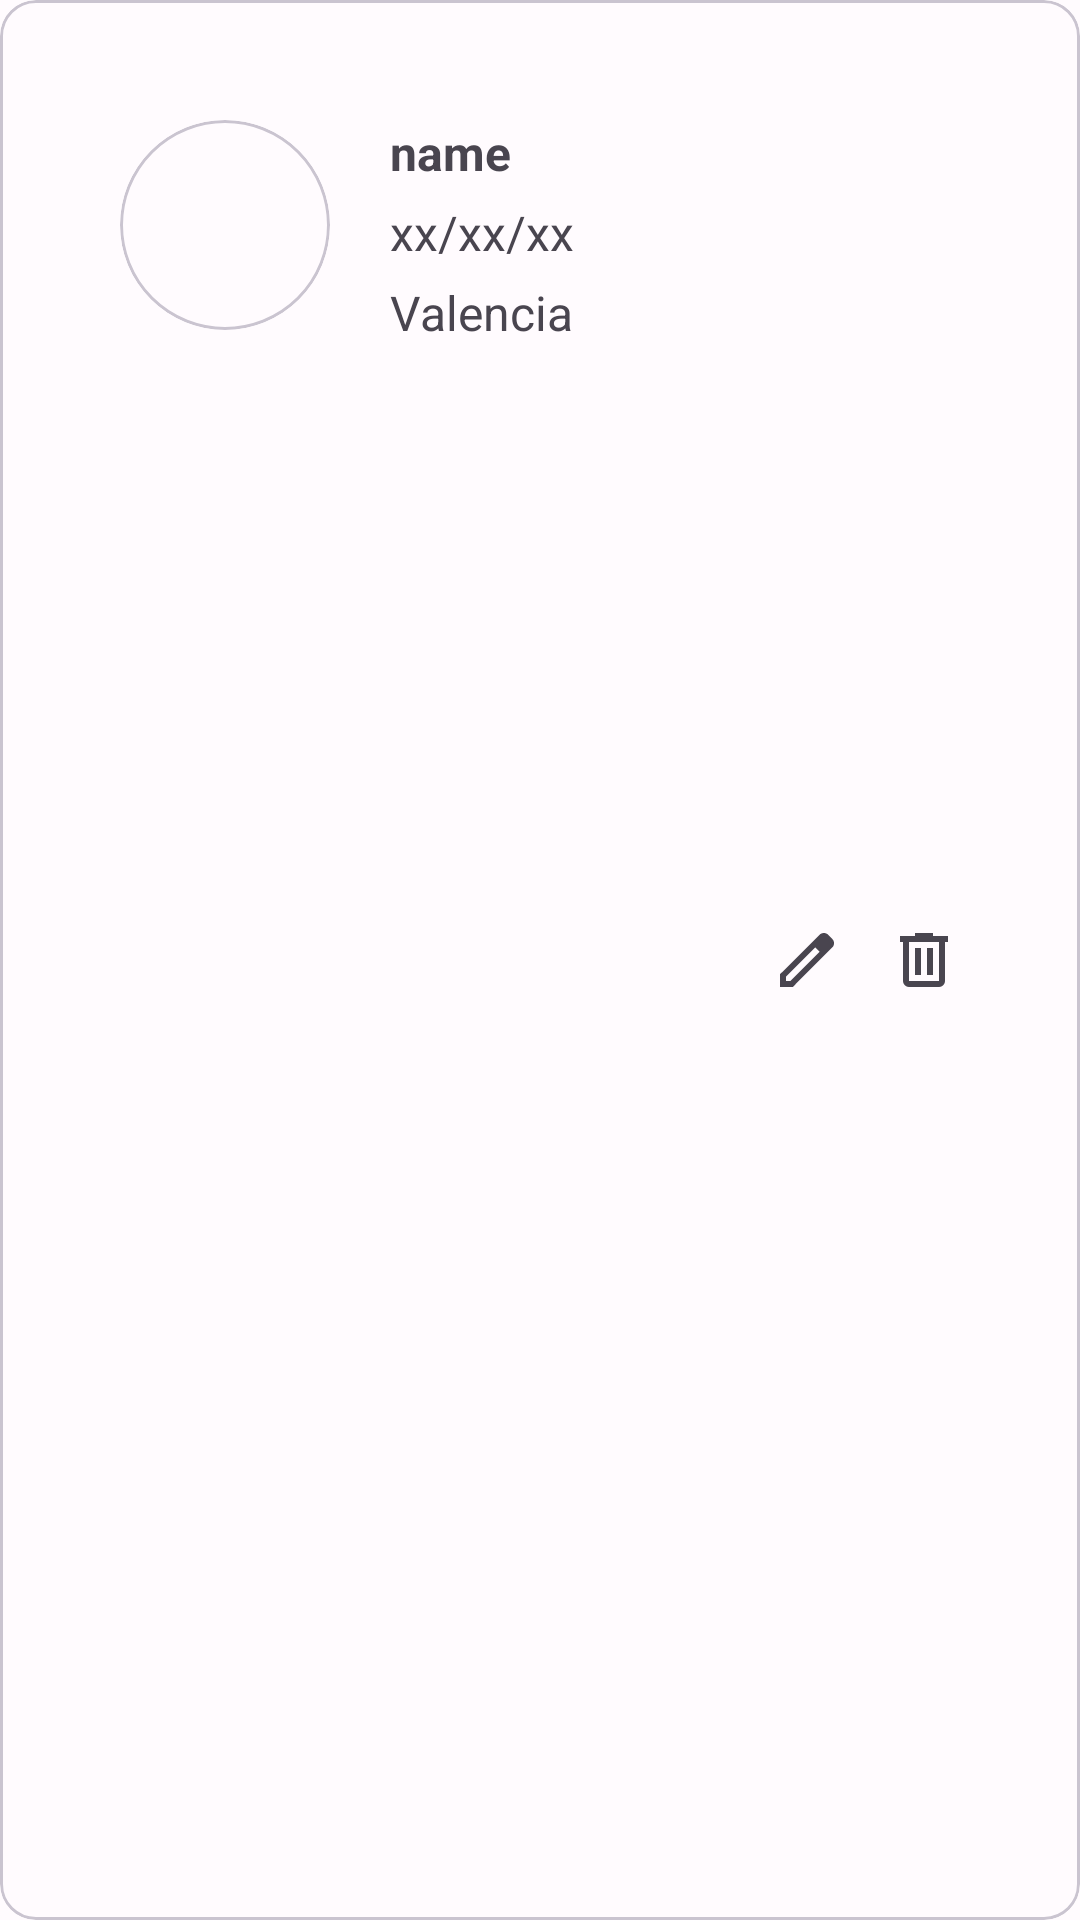

Screen size 1080px x 1920px. Icon name, then its center in pixels as (x=x, y=y):
delete: (x=924, y=960)
edit: (x=807, y=960)
